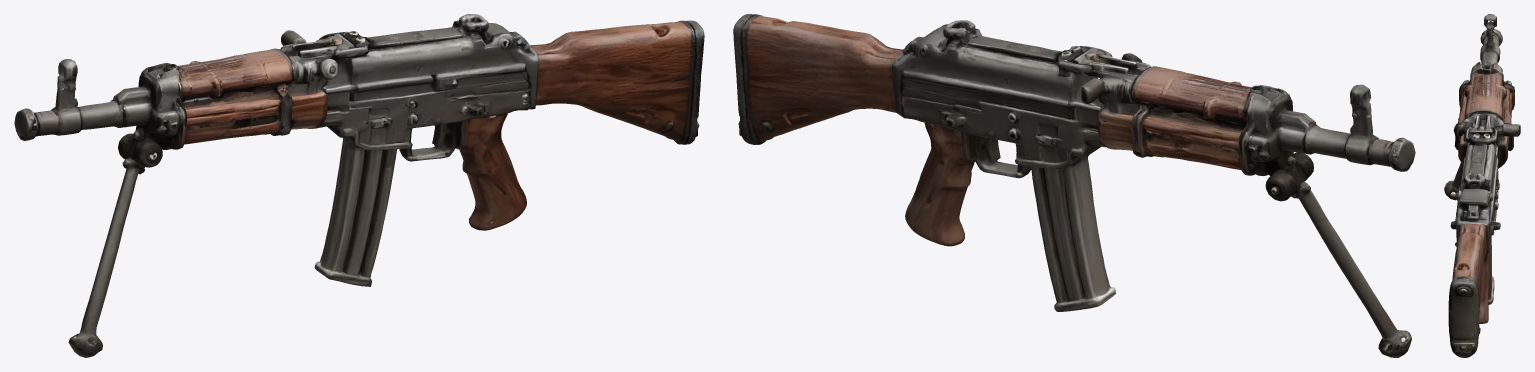
Rendered from rn_rpk.glb.
3 views of the same model, side by side, from view 1: azimuth 30°, elevation 25°; view 2: azimuth 150°, elevation 25°; view 3: azimuth 270°, elevation 25° (orthographic). The views are drawn at different scales.
Visible parts, largest first — view 1: tripo_node_bc1e289a-cafc-4b21-b2bd-f1b35e1a916b; view 2: tripo_node_bc1e289a-cafc-4b21-b2bd-f1b35e1a916b; view 3: tripo_node_bc1e289a-cafc-4b21-b2bd-f1b35e1a916b.
Part boxes in pixels (x1,y1,x2,y2): tripo_node_bc1e289a-cafc-4b21-b2bd-f1b35e1a916b: [14, 14, 704, 357]; tripo_node_bc1e289a-cafc-4b21-b2bd-f1b35e1a916b: [733, 14, 1415, 357]; tripo_node_bc1e289a-cafc-4b21-b2bd-f1b35e1a916b: [1444, 14, 1520, 357].
Size of the model in its own units: 0.9269 by 0.3848 by 0.1375.
Materials: 1 (1 with a texture image).
